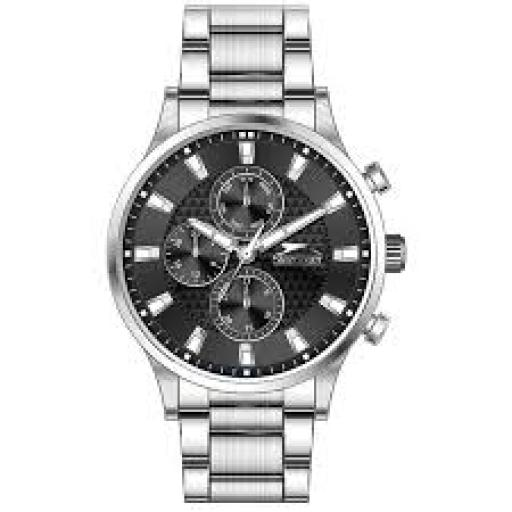KolSaati: (94, 0, 416, 506)
